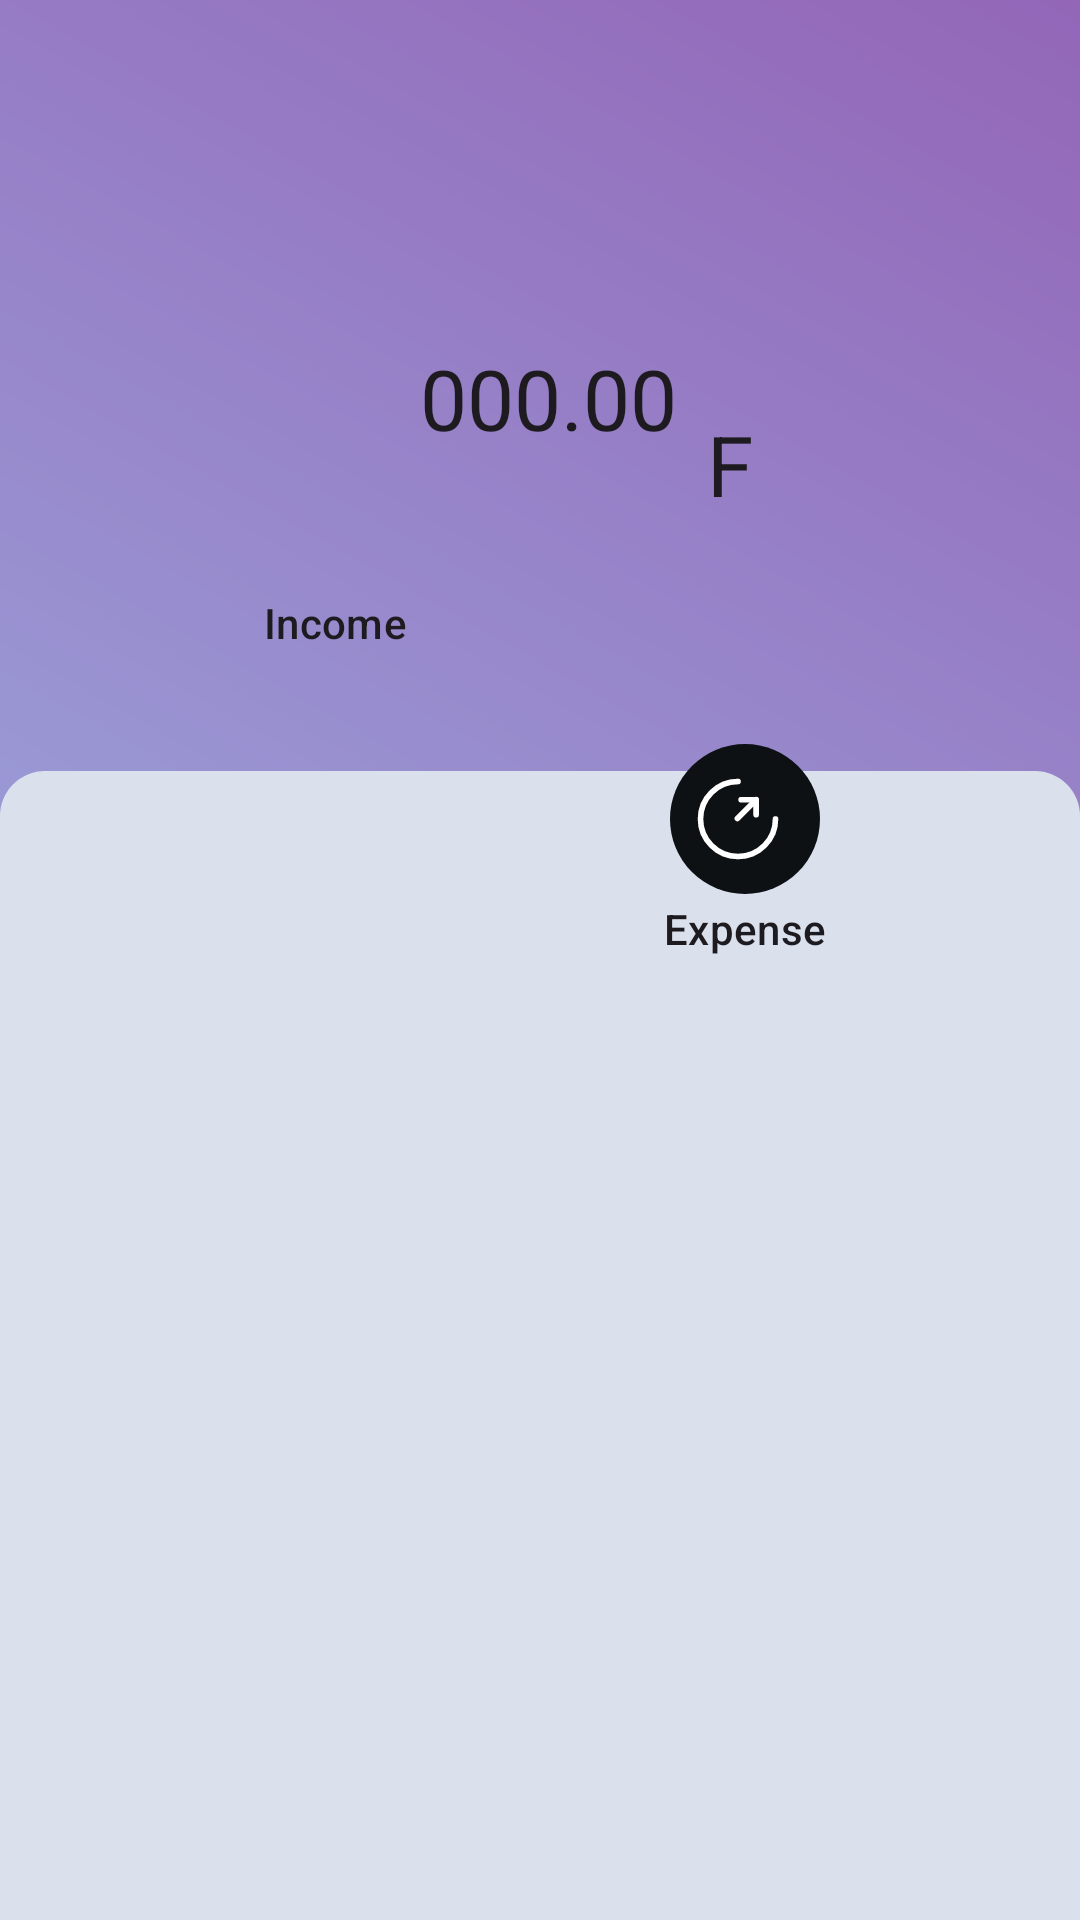

Icons on this 1080×1920 Android screen, each with the point to tap as (x=x, y=y):
money send: (x=745, y=819)
